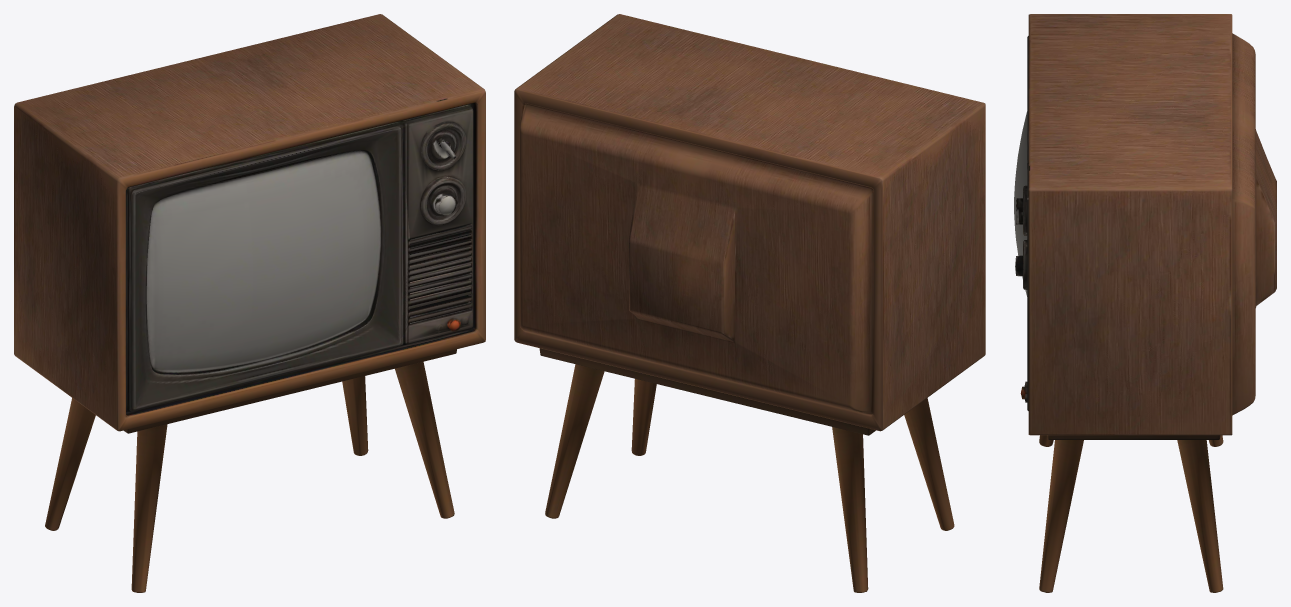
Rendered from Electronics__crt_television_realistic_style_fb8c8f64_v1.cluster.glb.
The picture shows the model from 3 angles, left to right: view 1: azimuth 30°, elevation 25°; view 2: azimuth 150°, elevation 25°; view 3: azimuth 270°, elevation 25°; orthographic projection. The views are drawn at different scales.
Parts seen in each view (by area): view 1: mesh_input; view 2: mesh_input; view 3: mesh_input.
Part boxes in pixels (x1,y1,x2,y2): mesh_input: [14, 14, 485, 592]; mesh_input: [514, 14, 985, 592]; mesh_input: [1014, 14, 1276, 592].
Bounding box in the file's own units: 1.71 × 1.9 × 1.08.
1 material, 1 textured.
